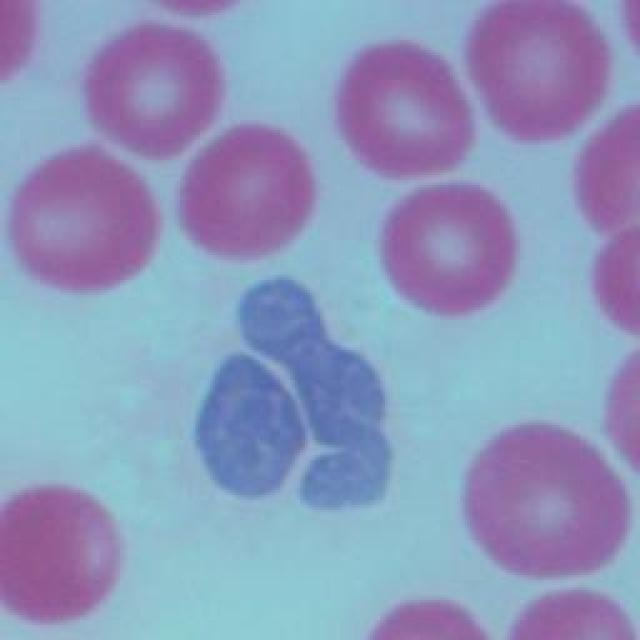RBC: (461, 421, 634, 579), (10, 146, 160, 302), (458, 0, 614, 150), (176, 118, 319, 260), (332, 40, 476, 180), (80, 21, 222, 159), (382, 184, 516, 316), (0, 485, 125, 625), (570, 102, 640, 242), (502, 587, 635, 640), (592, 219, 640, 341), (364, 600, 496, 640), (605, 346, 640, 476), (0, 0, 42, 77)
WBC: (158, 264, 418, 544)
